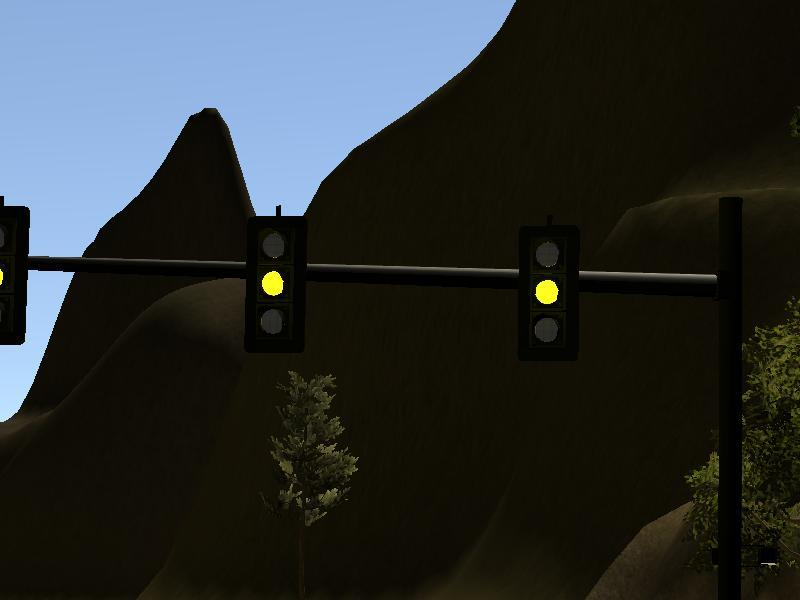Yellow: (246, 217, 307, 354), (516, 228, 579, 360), (1, 205, 30, 345)
